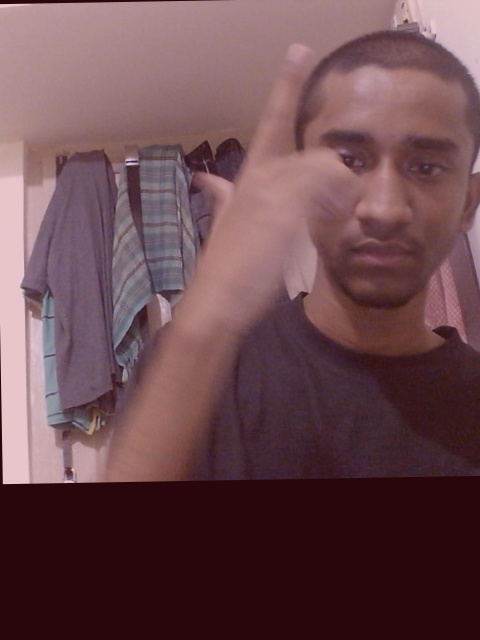hand: (179, 40, 365, 354)
